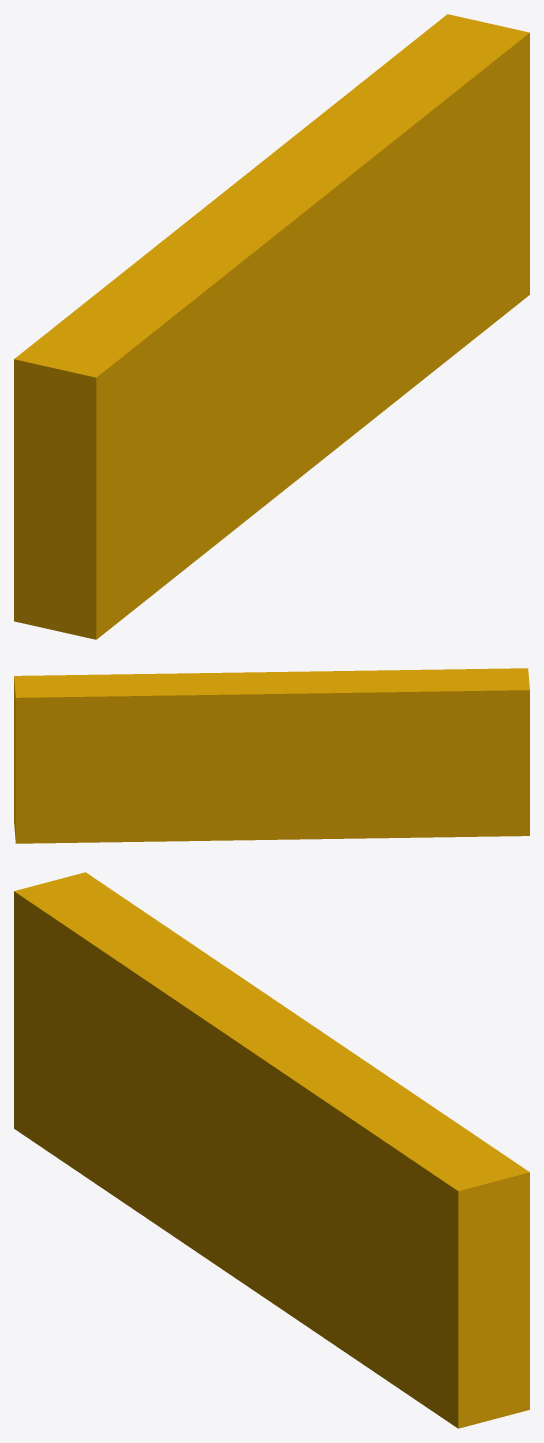
Rendered from jenga.fbx.
3 renders of one model, top to bottom at view 1: azimuth 30°, elevation 25°; view 2: azimuth 150°, elevation 25°; view 3: azimuth 270°, elevation 25°, orthographic. The views are drawn at different scales.
Visible parts, largest first — view 1: Plane.035; view 2: Plane.035; view 3: Plane.035.
Boxes of the visible parts, bbox=[...] form: Plane.035: bbox=[14, 14, 529, 639]; Plane.035: bbox=[14, 668, 529, 843]; Plane.035: bbox=[14, 872, 529, 1428].
Size of the model in its own units: 725 by 252 by 496.
